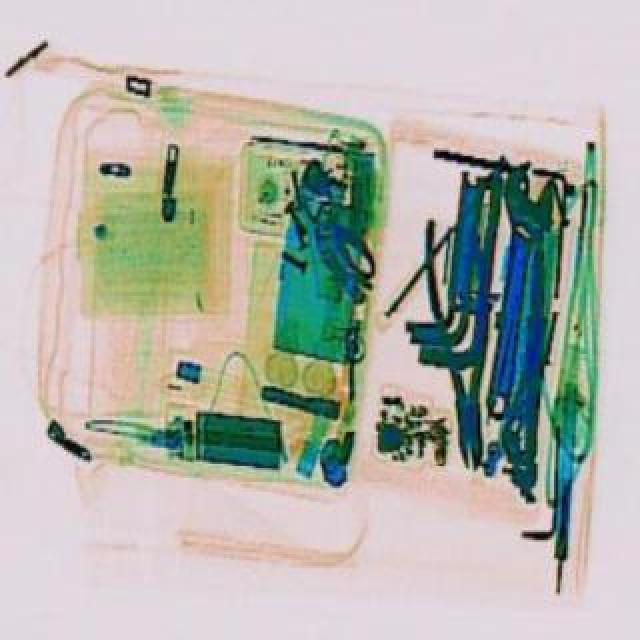scissors: (470, 170, 558, 430)
wrench: (420, 222, 496, 476)
